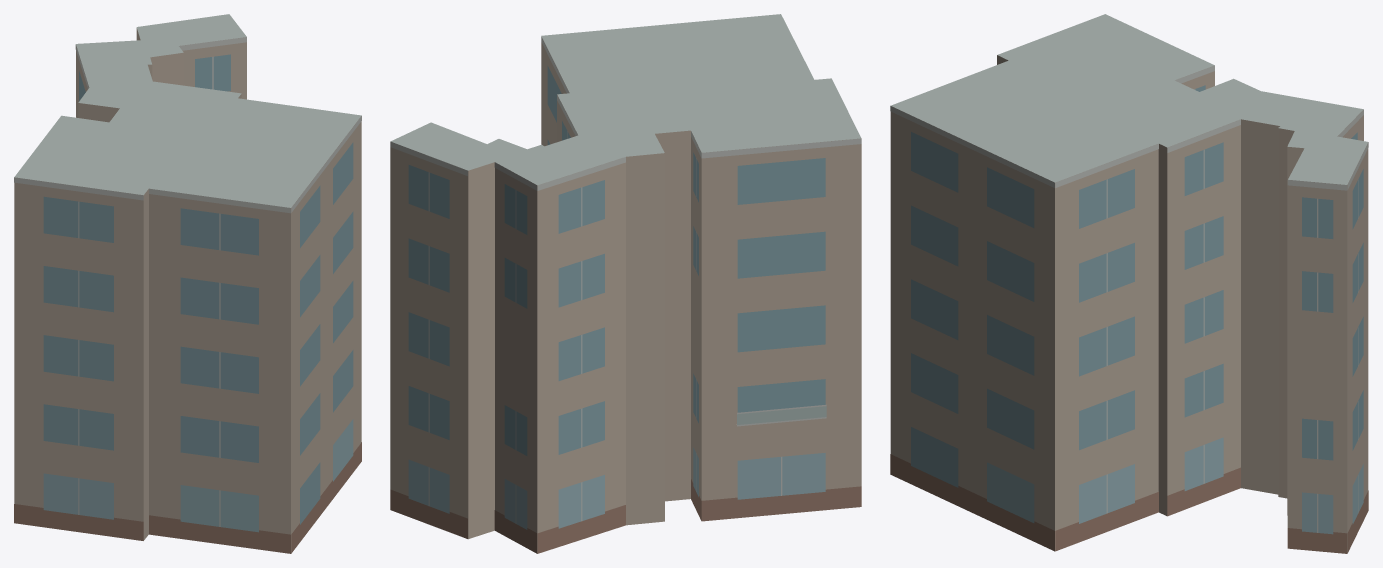
File: survey-upis-32497755.glb
3 views of the same model, side by side, from view 1: azimuth 30°, elevation 25°; view 2: azimuth 150°, elevation 25°; view 3: azimuth 270°, elevation 25° (orthographic). The views are drawn at different scales.
Visible parts, largest first — view 1: survey-upis-32497755.tmp; view 2: survey-upis-32497755.tmp; view 3: survey-upis-32497755.tmp.
Part boxes in pixels (x1,y1,x2,y2): survey-upis-32497755.tmp: [14, 14, 361, 553]; survey-upis-32497755.tmp: [390, 14, 861, 553]; survey-upis-32497755.tmp: [890, 14, 1368, 553].
Bounding box in the file's own units: 15.77 × 15.85 × 18.62.
